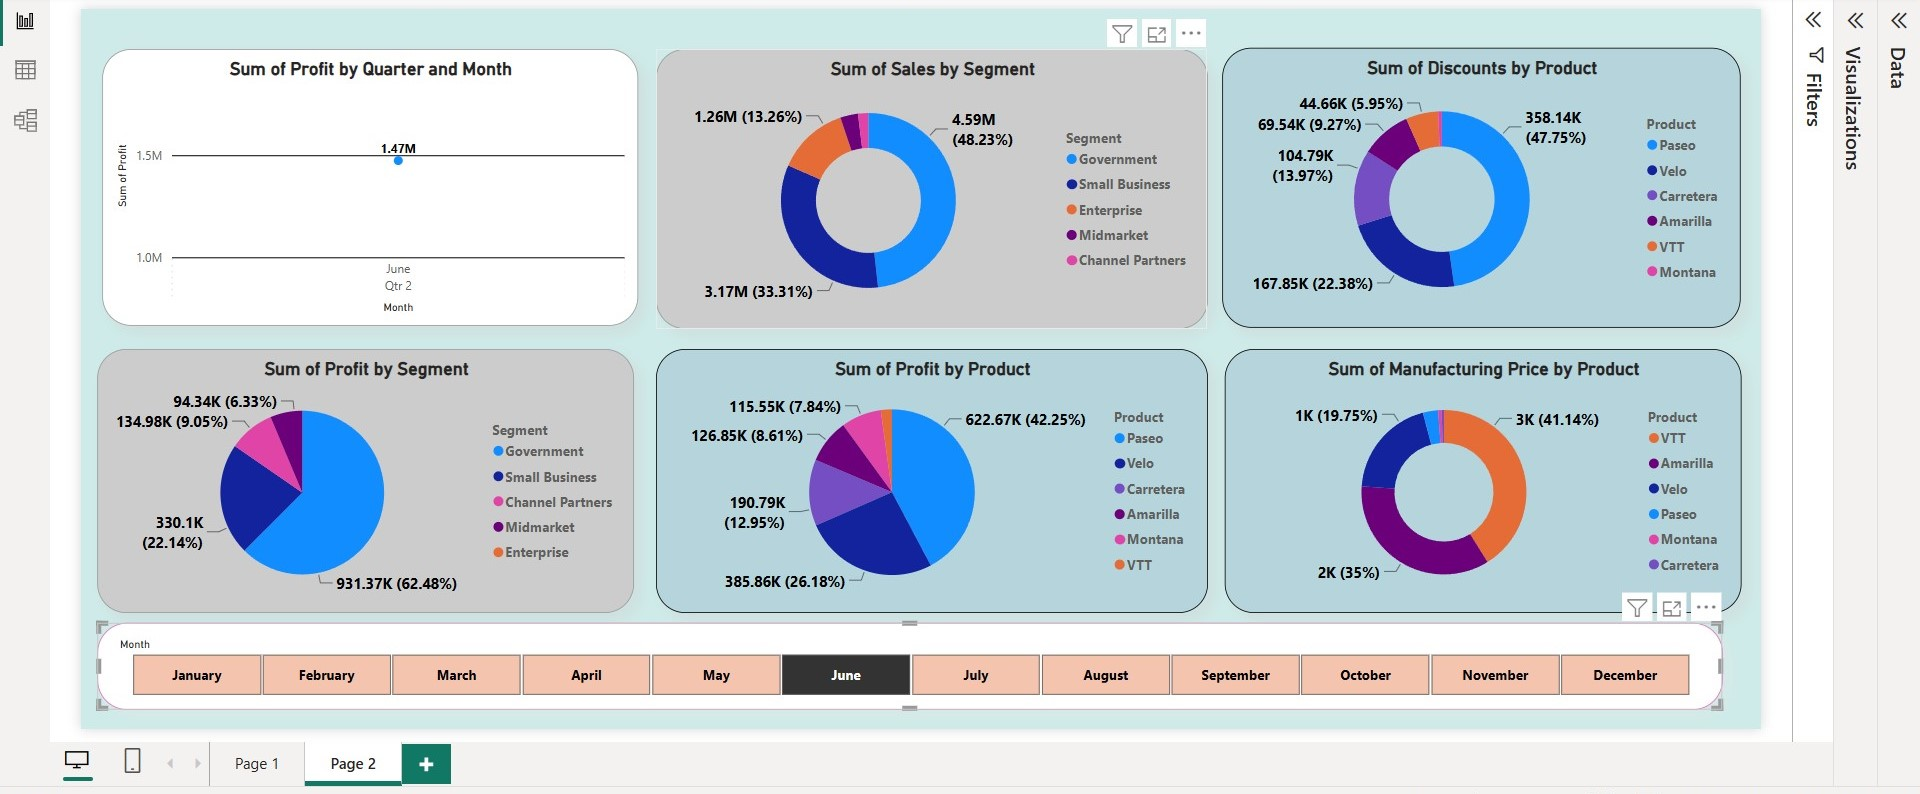

What the dashboard file says about the page in this screenshot:
{"tool":"powerbi","page":{"name":"Page 2","canvas":[1680,720],"ordinal":1},"visuals":[{"type":"lineChart","fields":{"Y":["Sum(financials.Profit)"],"Category":["financials.Date.Variation.Date Hierarchy.Quarter","financials.Date.Variation.Date Hierarchy.Month"]},"box":[21.4,40,535.7,277.1],"z":0},{"type":"pieChart","fields":{"Y":["Sum(financials.Profit)"],"Category":["financials.Segment"]},"box":[15.7,340,537.1,264.3],"z":1000},{"type":"donutChart","fields":{"Y":["Sum(financials. Sales)"],"Category":["financials.Segment"]},"box":[574.7,40,552.1,280.1],"z":2000},{"type":"pieChart","fields":{"Y":["Sum(financials.Profit)"],"Category":["financials.Product"]},"box":[574.7,340.3,552.1,263.9],"z":3000},{"type":"donutChart","fields":{"Category":["financials.Product"],"Y":["Sum(financials.Discounts)"]},"box":[1141.9,38.6,518.4,280.1],"z":4000},{"type":"donutChart","fields":{"Category":["financials.Product"],"Y":["Sum(financials.Manufacturing Price)"]},"box":[1143.2,340.2,517.1,263.9],"z":5000},{"type":"slicer","fields":{"Values":["financials.Date.Variation.Date Hierarchy.Month"]},"box":[15.7,614.3,1625.7,87.1],"z":6000}]}

Visuals, with their boxes on the page's 1680x720 design canvas (x1, y1, x2, y2). These are canvas units, not pixel positions in the 1920x794 screenshot, which may show the page scaled, cropped or inside an application window:
lineChart - Sum(financials.Profit) x financials.Date.Variation.Date Hierarchy.Quarter: [21, 40, 557, 317]
pieChart - Sum(financials.Profit) x financials.Segment: [16, 340, 553, 604]
donutChart - Sum(financials. Sales) x financials.Segment: [575, 40, 1127, 320]
pieChart - Sum(financials.Profit) x financials.Product: [575, 340, 1127, 604]
donutChart - financials.Product x Sum(financials.Discounts): [1142, 39, 1660, 319]
donutChart - financials.Product x Sum(financials.Manufacturing Price): [1143, 340, 1660, 604]
slicer - financials.Date.Variation.Date Hierarchy.Month: [16, 614, 1641, 701]
